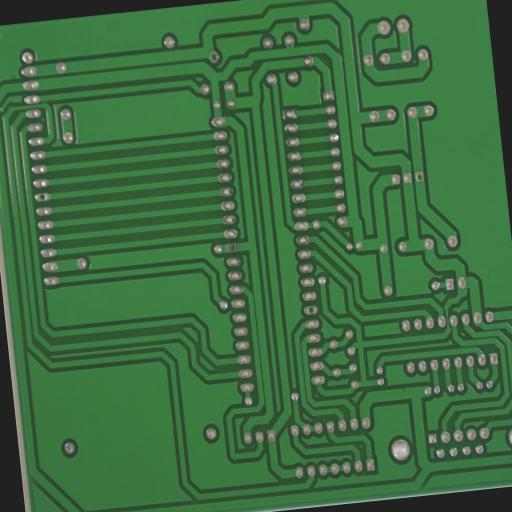missing_hole: (210, 53, 218, 62), (38, 193, 46, 202), (228, 243, 236, 252), (416, 173, 423, 182), (308, 306, 314, 314)
